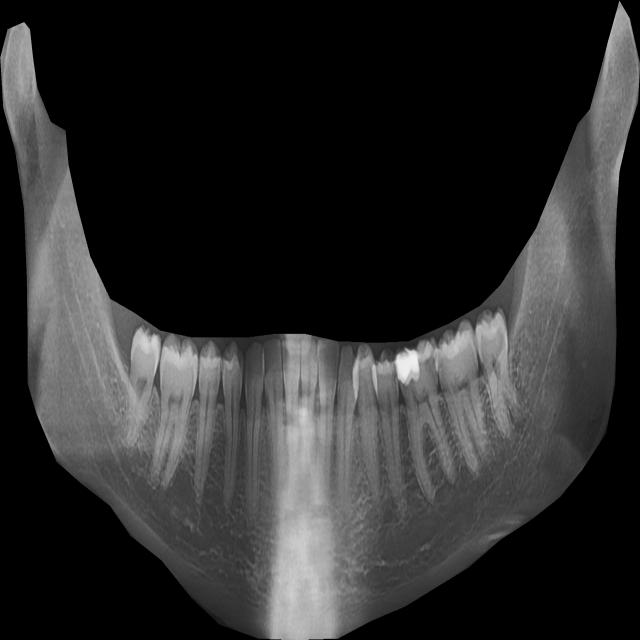mandibula: (0, 1, 640, 640)
